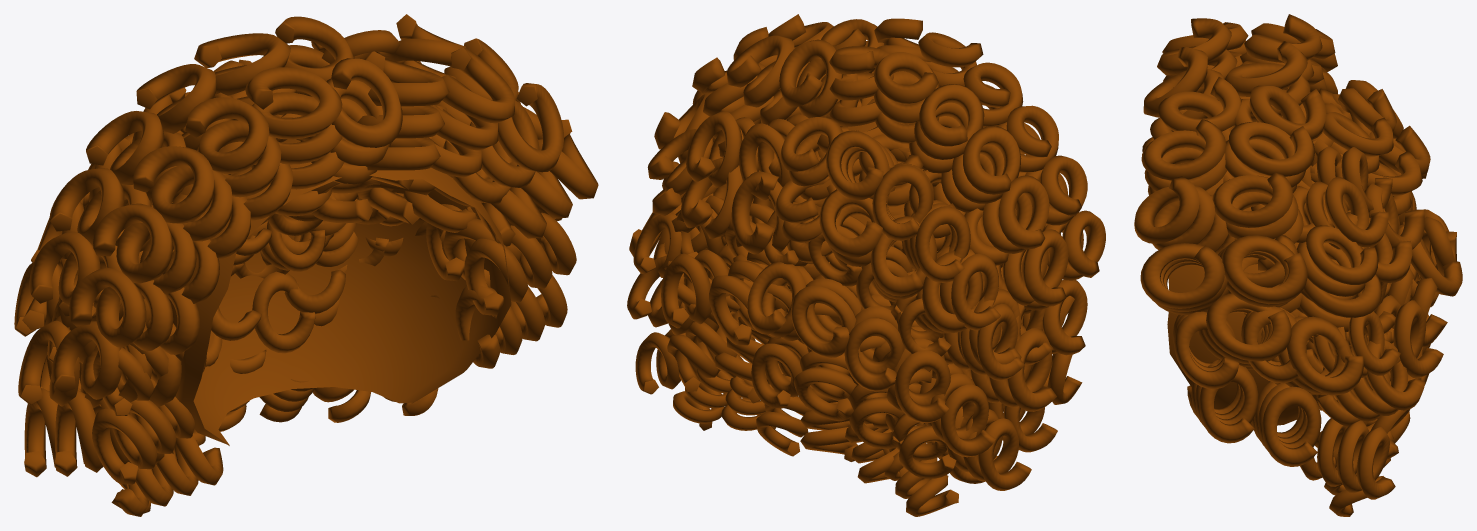
File: sac.fbx
The picture shows the model from 3 angles, left to right: view 1: azimuth 30°, elevation 25°; view 2: azimuth 150°, elevation 25°; view 3: azimuth 270°, elevation 25°; orthographic projection. The views are drawn at different scales.
Visible parts, largest first — view 1: sac, sac_ici; view 2: sac, sac_ici; view 3: sac, sac_ici.
Boxes of the visible parts, box(x1,y1,x2,y2) form: sac: box(14, 14, 598, 516); sac_ici: box(169, 138, 511, 445); sac: box(627, 14, 1105, 516); sac_ici: box(770, 110, 937, 360); sac: box(1134, 14, 1462, 516); sac_ici: box(1167, 180, 1317, 425).
Size of the model in its own units: 126 by 119 by 81.68.
